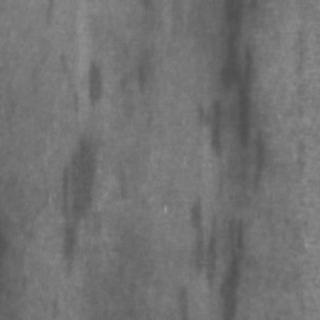inclusion: (185, 8, 258, 316), (50, 122, 102, 288), (78, 49, 110, 114)
